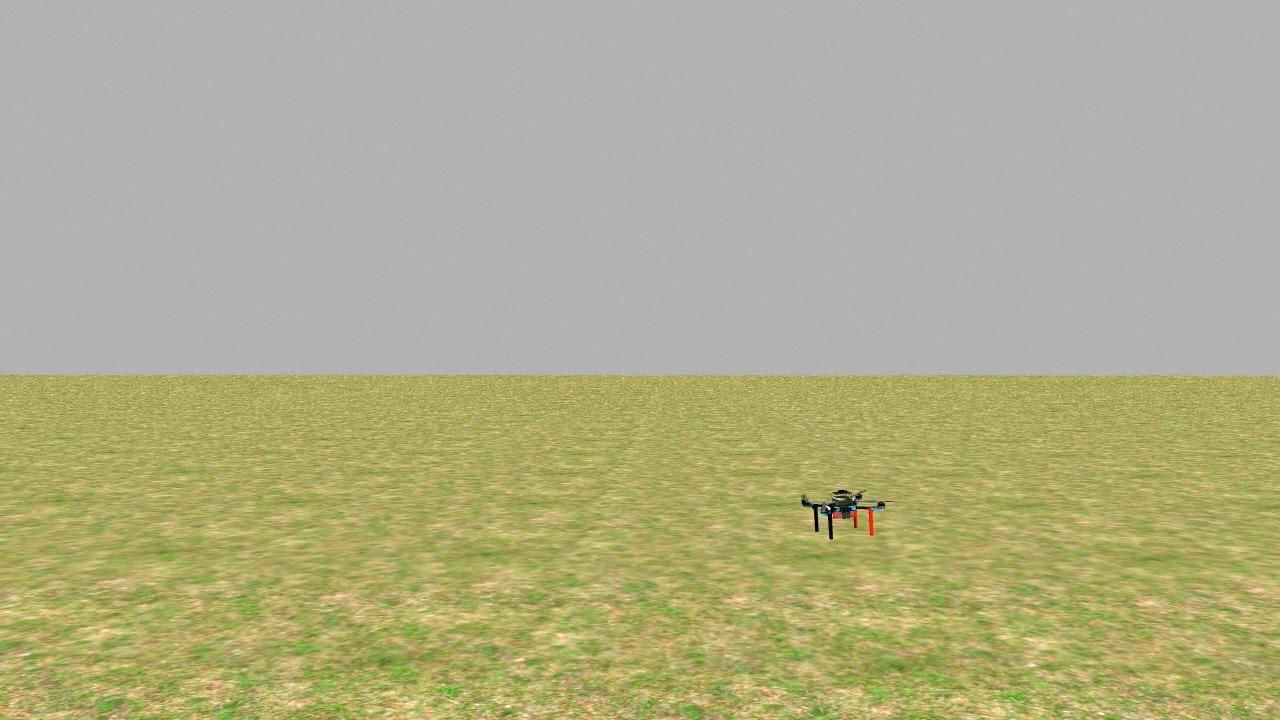UAV: (794, 474, 896, 549)
